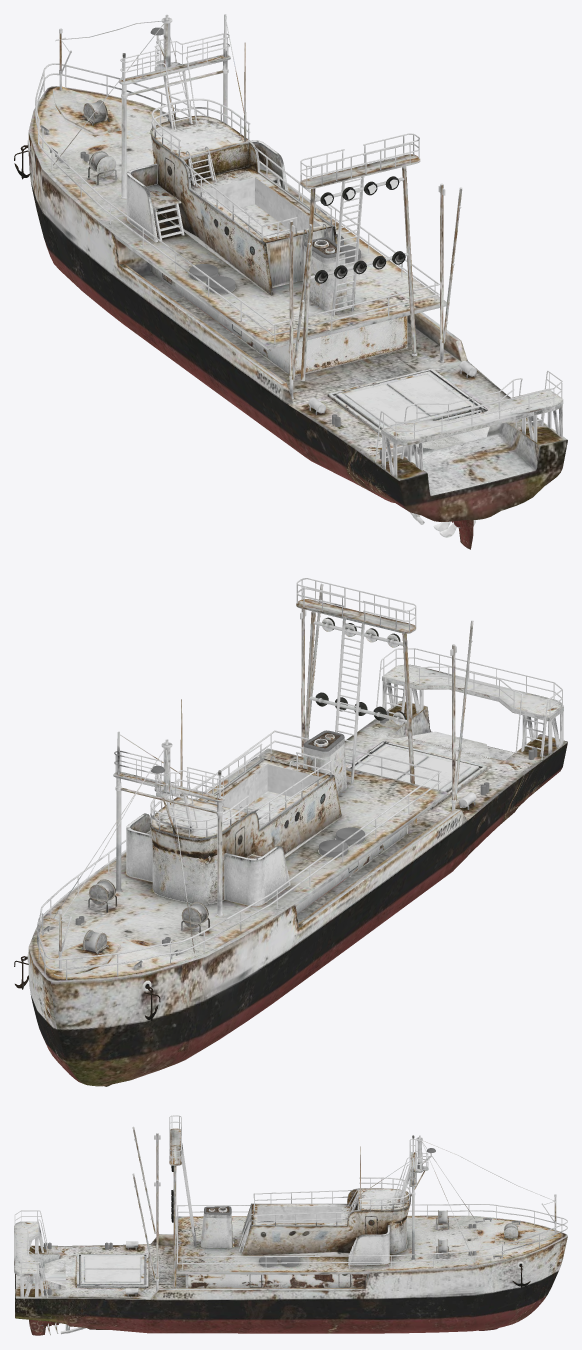
File: fishing_trawler.glb
The picture shows the model from 3 angles, top to bottom: view 1: azimuth 30°, elevation 25°; view 2: azimuth 150°, elevation 25°; view 3: azimuth 270°, elevation 25°; orthographic projection. The views are drawn at different scales.
Parts seen in each view (by area): view 1: Fan_1_Default_0; view 2: Fan_1_Default_0; view 3: Fan_1_Default_0.
Boxes of the visible parts, bbox=[...] form: Fan_1_Default_0: bbox=[14, 14, 567, 549]; Fan_1_Default_0: bbox=[14, 578, 567, 1086]; Fan_1_Default_0: bbox=[14, 1115, 567, 1335].
Bounding box in the file's own units: 3.12 × 5.25 × 13.
Materials: 1 (1 with a texture image).
